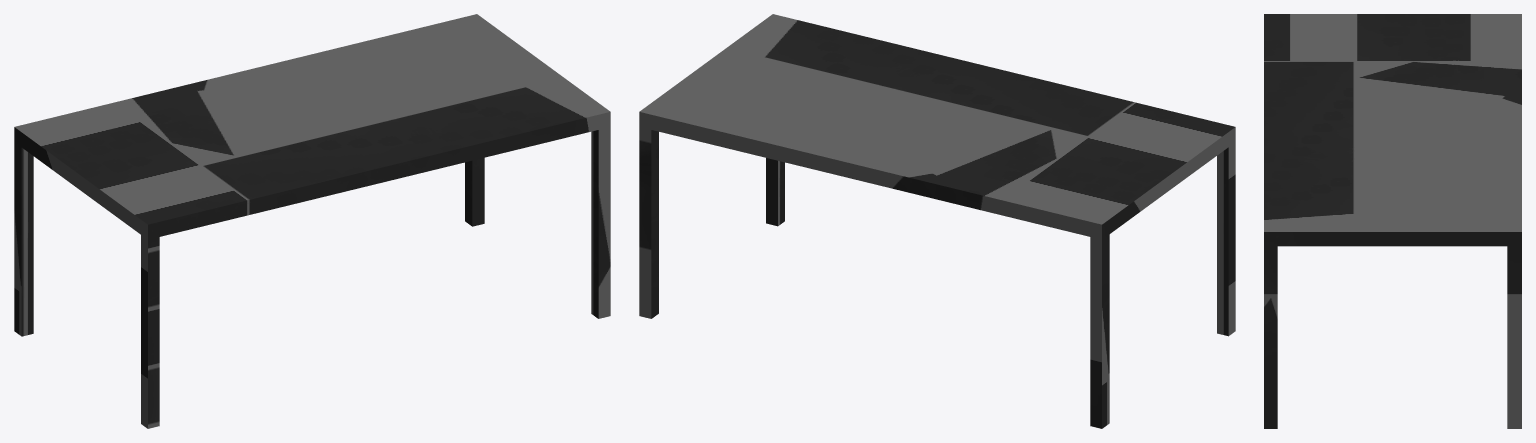
Rendered from table.fbx.
The picture shows the model from 3 angles, left to right: view 1: azimuth 30°, elevation 25°; view 2: azimuth 150°, elevation 25°; view 3: azimuth 270°, elevation 25°; orthographic projection. The views are drawn at different scales.
Parts seen in each view (by area): view 1: Table1; view 2: Table1; view 3: Table1.
Part boxes in pixels (x1,y1,x2,y2): Table1: [14, 14, 610, 428]; Table1: [639, 14, 1235, 428]; Table1: [1264, 14, 1521, 428].
Bounding box in the file's own units: 16 × 6.75 × 8.
